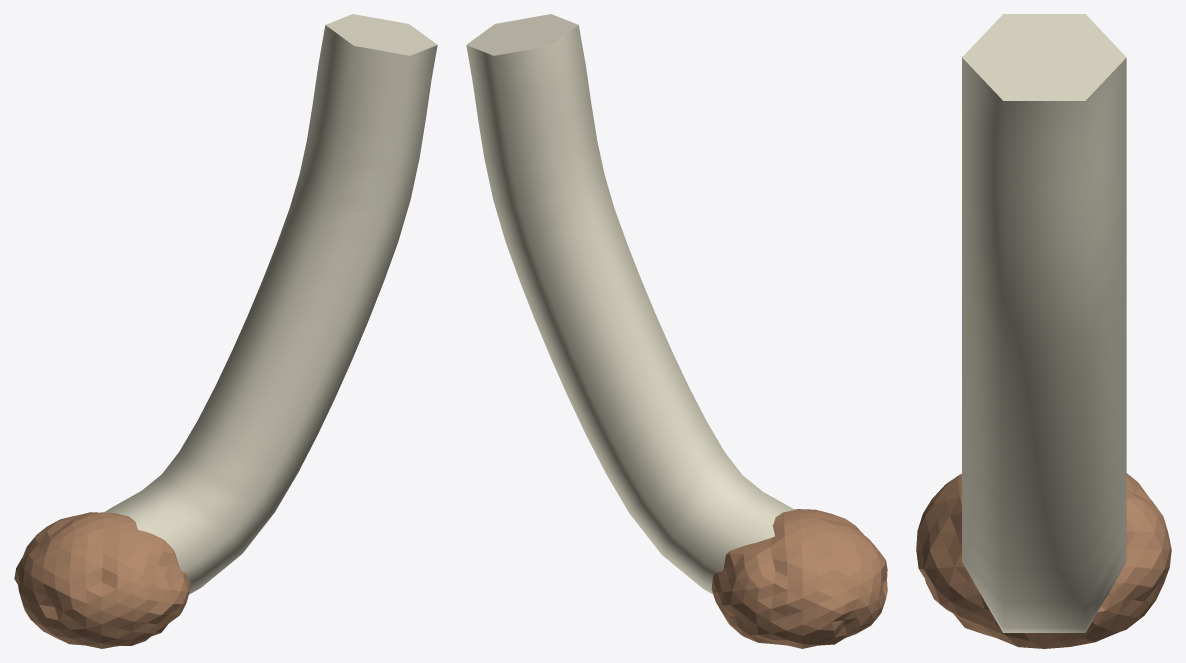
Rendered from prehistoric-expedition-sites-claw-fragment-f36c96be__26115.glb.
3 renders of one model, left to right at view 1: azimuth 30°, elevation 25°; view 2: azimuth 150°, elevation 25°; view 3: azimuth 270°, elevation 25°, orthographic. The views are drawn at different scales.
Parts seen in each view (by area): view 1: claw-fragment; view 2: claw-fragment; view 3: claw-fragment.
Boxes of the visible parts, left/top/right/bottom form: claw-fragment: left=14, top=14, right=437, bottom=648; claw-fragment: left=466, top=14, right=887, bottom=648; claw-fragment: left=916, top=14, right=1171, bottom=648.
Bounding box in the file's own units: 0.2002 × 0.2547 × 0.0776.
